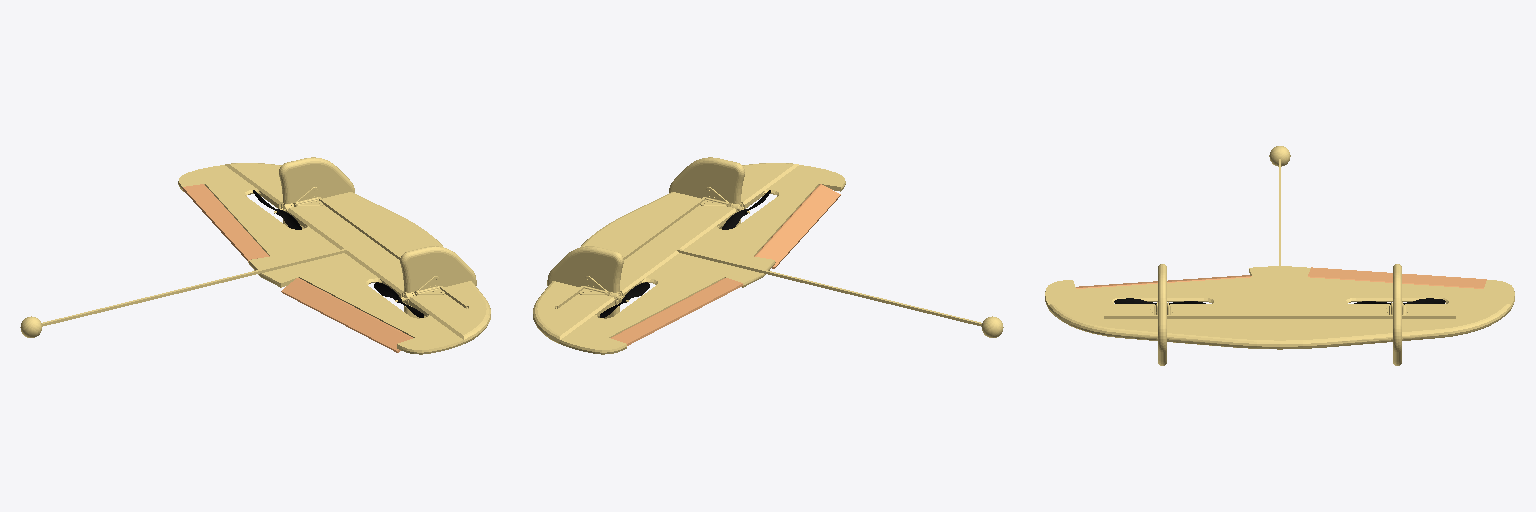
The robot description file, URDF, robot "DeltatWinURDF":
<?xml version="1.0" encoding="utf-8"?>
<!-- This URDF was automatically created by SolidWorks to URDF Exporter! Originally created by [author] ([email redacted]) 
     Commit Version: 1.6.0-4-g7f85cfe  Build Version: 1.6.7995.38578
     For more information, please see http://wiki.ros.org/sw_urdf_exporter -->
<robot
  name="DeltatWinURDF">
  <link
    name="base_link">
    <inertial>
      <origin
        xyz="-0.0952036209787758 7.78125513600558E-11 0.00197473007512181"
        rpy="0 0 0" />
      <mass
        value="0.296981329335048" />
      <inertia
        ixx="0.00806559842793603"
        ixy="-9.41934501552741E-14"
        ixz="5.49054252463097E-10"
        iyy="0.00147659261617276"
        iyz="-2.12387797879751E-09"
        izz="0.00928812511950579" />
    </inertial>
    <visual>
      <origin
        xyz="0 0 0"
        rpy="0 0 0" />
      <geometry>
        <mesh
          filename="package://DeltatWinURDF/meshes/base_link.STL" />
      </geometry>
      <material
        name="">
        <color
          rgba="0.968627450980392 0.87843137254902 0.6 1" />
      </material>
    </visual>
    <collision>
      <origin
        xyz="0 0 0"
        rpy="0 0 0" />
      <geometry>
        <mesh
          filename="package://DeltatWinURDF/meshes/base_link.STL" />
      </geometry>
    </collision>
  </link>
  <link
    name="right_motor">
    <inertial>
      <origin
        xyz="-1.0218294876907E-08 -6.00144618685593E-09 0.00181141041634729"
        rpy="0 0 0" />
      <mass
        value="0.00359973592304301" />
      <inertia
        ixx="9.02360838417436E-08"
        ixy="1.17837997236154E-07"
        ixz="-1.90562919430233E-14"
        iyy="9.42212831802528E-06"
        iyz="-1.21143734797756E-13"
        izz="9.47988709060552E-06" />
    </inertial>
    <visual>
      <origin
        xyz="0 0 0"
        rpy="0 0 0" />
      <geometry>
        <mesh
          filename="package://DeltatWinURDF/meshes/right_motor.STL" />
      </geometry>
      <material
        name="">
        <color
          rgba="0.0980392156862745 0.0980392156862745 0.0980392156862745 1" />
      </material>
    </visual>
    <collision>
      <origin
        xyz="0 0 0"
        rpy="0 0 0" />
      <geometry>
        <mesh
          filename="package://DeltatWinURDF/meshes/right_motor.STL" />
      </geometry>
    </collision>
  </link>
  <joint
    name="right_motor_joint"
    type="revolute">
    <origin
      xyz="-0.013011 0.25 0"
      rpy="1.5708 0 1.5708" />
    <parent
      link="base_link" />
    <child
      link="right_motor" />
    <axis
      xyz="0 0 1" />
    <limit
      lower="0"
      upper="0"
      effort="0"
      velocity="0" />
  </joint>
  <link
    name="left_motor">
    <inertial>
      <origin
        xyz="-4.73083400231999E-09 -1.5982328578194E-08 0.00181295979349896"
        rpy="0 0 0" />
      <mass
        value="0.0035962732627869" />
      <inertia
        ixx="9.01777971251138E-08"
        ixy="-1.17015369968996E-07"
        ixz="4.72219526573555E-14"
        iyy="9.40216890545166E-06"
        iyz="-8.94212671917933E-14"
        izz="9.45986253030714E-06" />
    </inertial>
    <visual>
      <origin
        xyz="0 0 0"
        rpy="0 0 0" />
      <geometry>
        <mesh
          filename="package://DeltatWinURDF/meshes/left_motor.STL" />
      </geometry>
      <material
        name="">
        <color
          rgba="0.0980392156862745 0.0980392156862745 0.0980392156862745 1" />
      </material>
    </visual>
    <collision>
      <origin
        xyz="0 0 0"
        rpy="0 0 0" />
      <geometry>
        <mesh
          filename="package://DeltatWinURDF/meshes/left_motor.STL" />
      </geometry>
    </collision>
  </link>
  <joint
    name="left_motor_joint"
    type="revolute">
    <origin
      xyz="-0.013 -0.25 0"
      rpy="1.5708 0 1.5708" />
    <parent
      link="base_link" />
    <child
      link="left_motor" />
    <axis
      xyz="0 0 1" />
    <limit
      lower="0"
      upper="0"
      effort="0"
      velocity="0" />
  </joint>
  <link
    name="right_elevon">
    <inertial>
      <origin
        xyz="-0.0206295101987303 0.180271196118253 0.00114188761501559"
        rpy="0 0 0" />
      <mass
        value="0.00429914039301486" />
      <inertia
        ixx="5.174539257616E-05"
        ixy="8.39192922141699E-07"
        ixz="5.15080918137687E-08"
        iyy="8.59467191797982E-07"
        iyz="8.49222569650825E-10"
        izz="5.2552381577933E-05" />
    </inertial>
    <visual>
      <origin
        xyz="0 0 0"
        rpy="0 0 0" />
      <geometry>
        <mesh
          filename="package://DeltatWinURDF/meshes/right_elevon.STL" />
      </geometry>
      <material
        name="">
        <color
          rgba="0.988235294117647 0.737254901960784 0.517647058823529 1" />
      </material>
    </visual>
    <collision>
      <origin
        xyz="0 0 0"
        rpy="0 0 0" />
      <geometry>
        <mesh
          filename="package://DeltatWinURDF/meshes/right_elevon.STL" />
      </geometry>
    </collision>
  </link>
  <joint
    name="right_elevon_joint"
    type="revolute">
    <origin
      xyz="-0.14351 0.068516 0"
      rpy="0 0 -0.17453" />
    <parent
      link="base_link" />
    <child
      link="right_elevon" />
    <axis
      xyz="0.016485 -0.99986 0" />
    <limit
      lower="-1.571"
      upper="1.571"
      effort="0"
      velocity="0" />
  </joint>
  <link
    name="left_elevon">
    <inertial>
      <origin
        xyz="-0.0196636403404296 -0.175581705344098 -0.00564668601966695"
        rpy="0 0 0" />
      <mass
        value="0.00429914039301486" />
      <inertia
        ixx="5.18235158616008E-05"
        ixy="-8.40480953883799E-07"
        ixz="-2.41892335100736E-07"
        iyy="8.59488427793871E-07"
        iyz="3.9881195973088E-09"
        izz="5.24742370564963E-05" />
    </inertial>
    <visual>
      <origin
        xyz="0 0 0"
        rpy="0 0 0" />
      <geometry>
        <mesh
          filename="package://DeltatWinURDF/meshes/left_elevon.STL" />
      </geometry>
      <material
        name="">
        <color
          rgba="0.988235294117647 0.737254901960784 0.517647058823529 1" />
      </material>
    </visual>
    <collision>
      <origin
        xyz="0 0 0"
        rpy="0 0 0" />
      <geometry>
        <mesh
          filename="package://DeltatWinURDF/meshes/left_elevon.STL" />
      </geometry>
    </collision>
  </link>
  <joint
    name="left_elevon_joint"
    type="revolute">
    <origin
      xyz="-0.14277 -0.073162 0"
      rpy="0 0 0.17453" />
    <parent
      link="base_link" />
    <child
      link="left_elevon" />
    <axis
      xyz="-0.016485 -0.99986 0" />
    <limit
      lower="-1.571"
      upper="1.571"
      effort="0"
      velocity="0" />
  </joint>
</robot>

--- Render facts (derived) ---
The picture shows the robot from 3 angles, left to right: view 1: azimuth 30°, elevation 25°; view 2: azimuth 150°, elevation 25°; view 3: azimuth 270°, elevation 25°; orthographic projection.
Model DeltatWinURDF with 5 links and 4 joints (4 revolute), rooted at base_link, posed all joints at 0.
Links seen in each view (by area): view 1: base_link, left_elevon, right_elevon; view 2: base_link, left_elevon, right_elevon; view 3: base_link, right_elevon.
Boxes of the visible links, box(x1,y1,x2,y2) form: base_link: box(20, 157, 490, 354); left_elevon: box(281, 278, 412, 352); right_elevon: box(182, 184, 269, 261); base_link: box(533, 157, 1003, 354); left_elevon: box(754, 184, 840, 268); right_elevon: box(611, 278, 743, 345); base_link: box(1045, 146, 1514, 365); right_elevon: box(1308, 267, 1486, 288).
Size in the robot's own frame: 0.9665 by 1 by 0.21 metres.
5 mesh visuals loaded from 5 distinct referenced files (5 binary STL).